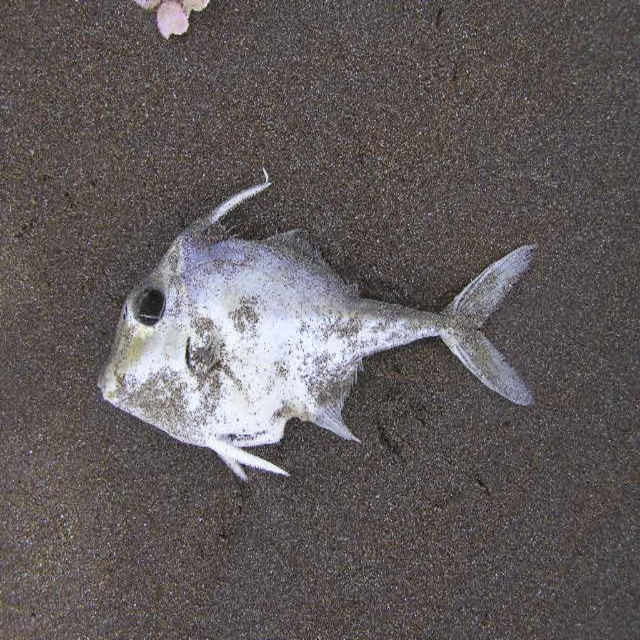Fish: (100, 171, 533, 476)
